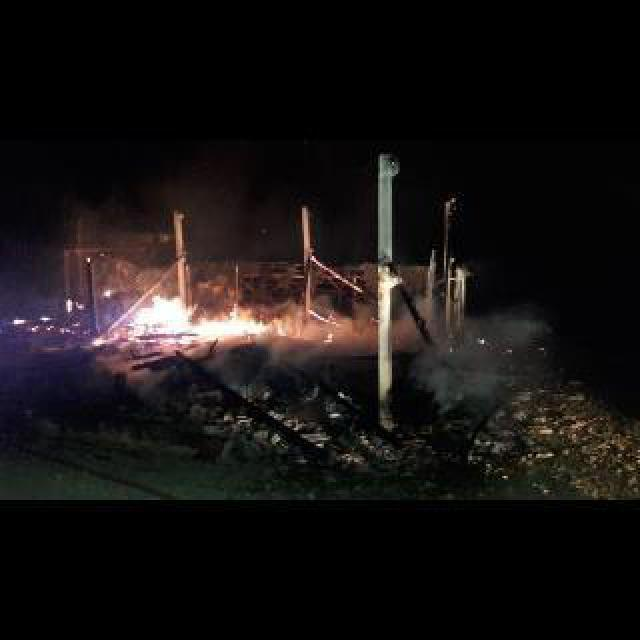Fire: (130, 292, 284, 342), (90, 332, 112, 344)
